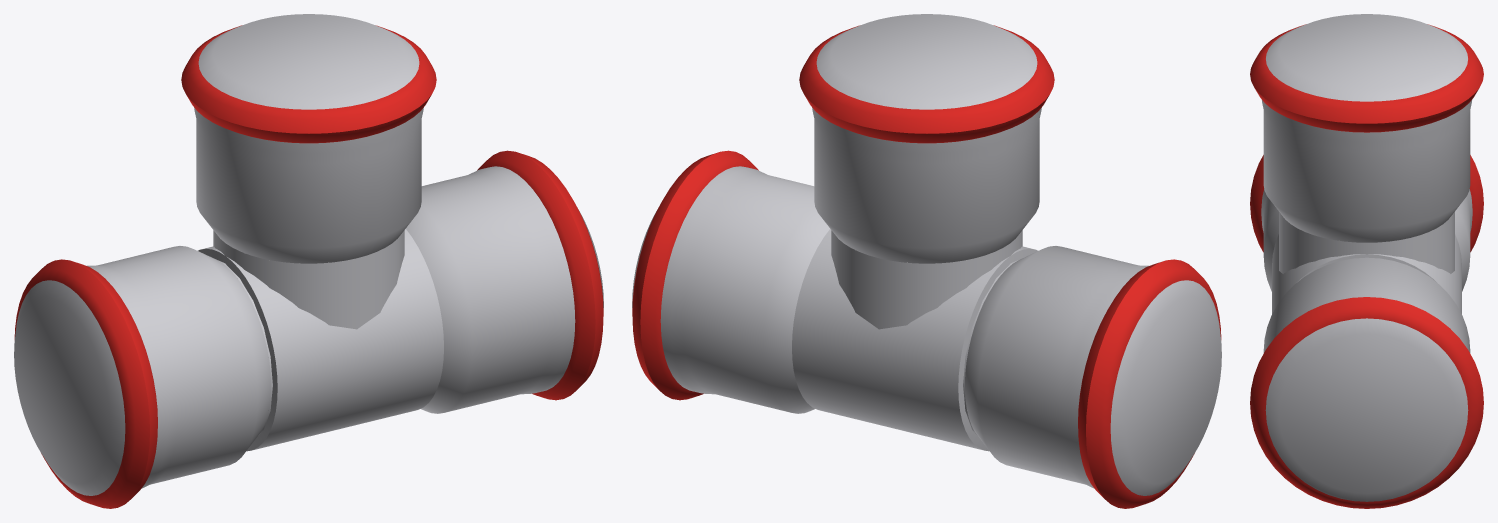
Rendered from fitting_tee_28_r.glb.
3 views of the same model, side by side, from view 1: azimuth 30°, elevation 25°; view 2: azimuth 150°, elevation 25°; view 3: azimuth 270°, elevation 25° (orthographic). The views are drawn at different scales.
Visible parts, largest first — view 1: раструб.001, раструб.002, раструб, узел, кольцо пресс.001, кольцо пресс.002, корпус.001, кольцо пресс; view 2: раструб.001, раструб.002, раструб, узел, кольцо пресс.001, кольцо пресс.002, корпус.001, кольцо пресс; view 3: раструб, раструб.002, кольцо пресс, кольцо пресс.002, корпус.001, узел, раструб.001, кольцо пресс.001.
Boxes of the visible parts, x1,y1,x2,y2 form: раструб.001: (14,246,270,495); раструб.002: (194,14,423,263); раструб: (406,166,603,413); узел: (198,229,443,451); кольцо пресс.001: (14,259,157,508); кольцо пресс.002: (181,25,436,143); корпус.001: (213,230,404,329); кольцо пресс: (477,150,603,400); раструб.001: (965,246,1221,495); раструб.002: (812,14,1041,263); раструб: (632,166,829,413); узел: (792,229,1037,451); кольцо пресс.001: (1078,259,1221,508); кольцо пресс.002: (799,25,1054,143); корпус.001: (831,230,1022,329); кольцо пресс: (632,150,758,400); раструб: (1263,257,1470,501); раструб.002: (1262,14,1471,242); кольцо пресс: (1250,297,1483,508); кольцо пресс.002: (1250,24,1483,132); корпус.001: (1279,212,1454,273); узел: (1272,234,1461,313); раструб.001: (1261,189,1472,291); кольцо пресс.001: (1250,155,1483,252).
Bounding box in the file's own units: 0.092 × 0.0696 × 0.0412.
